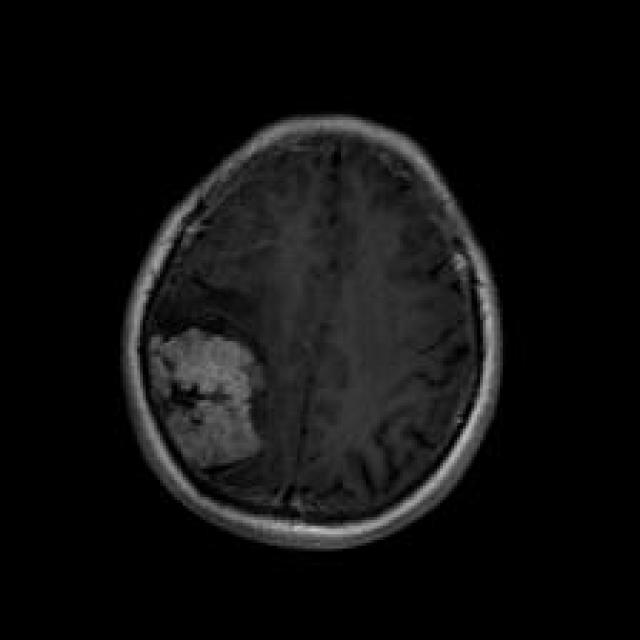meningioma_tumor: (137, 316, 271, 491)
